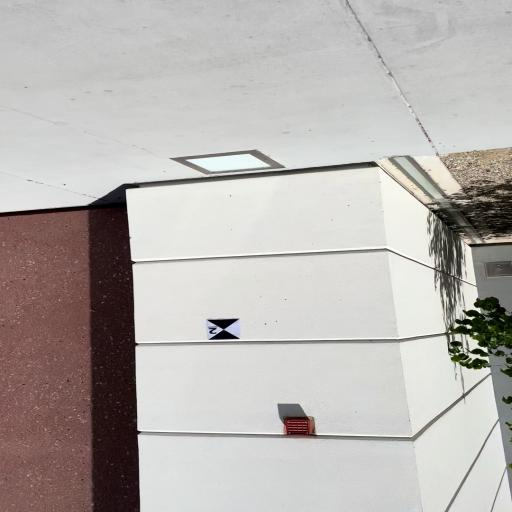target2: (206, 318, 242, 340)
